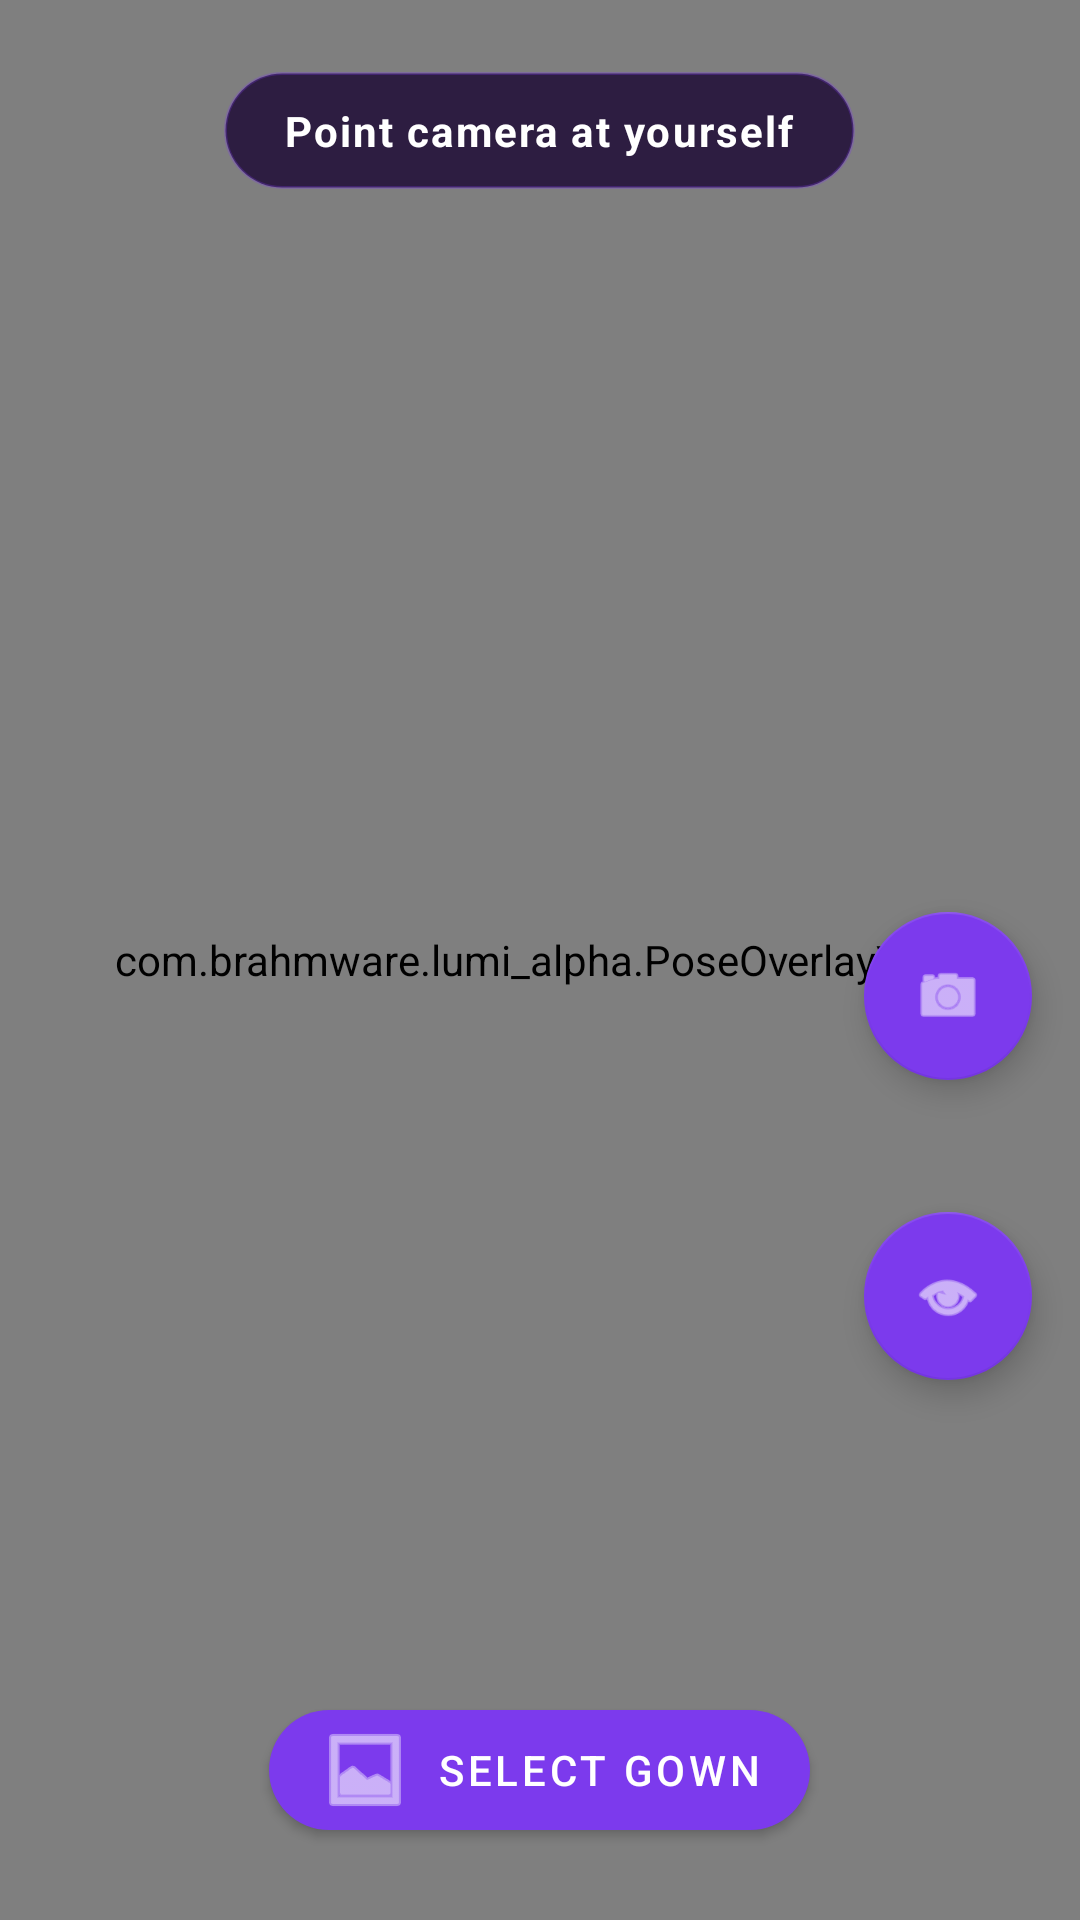

Icon bounding boxes for this 1080px×1920px phone screenshot, format detection(x1, y1, x2, y2):
Toggle Camera: detection(864, 912, 1032, 1080)
